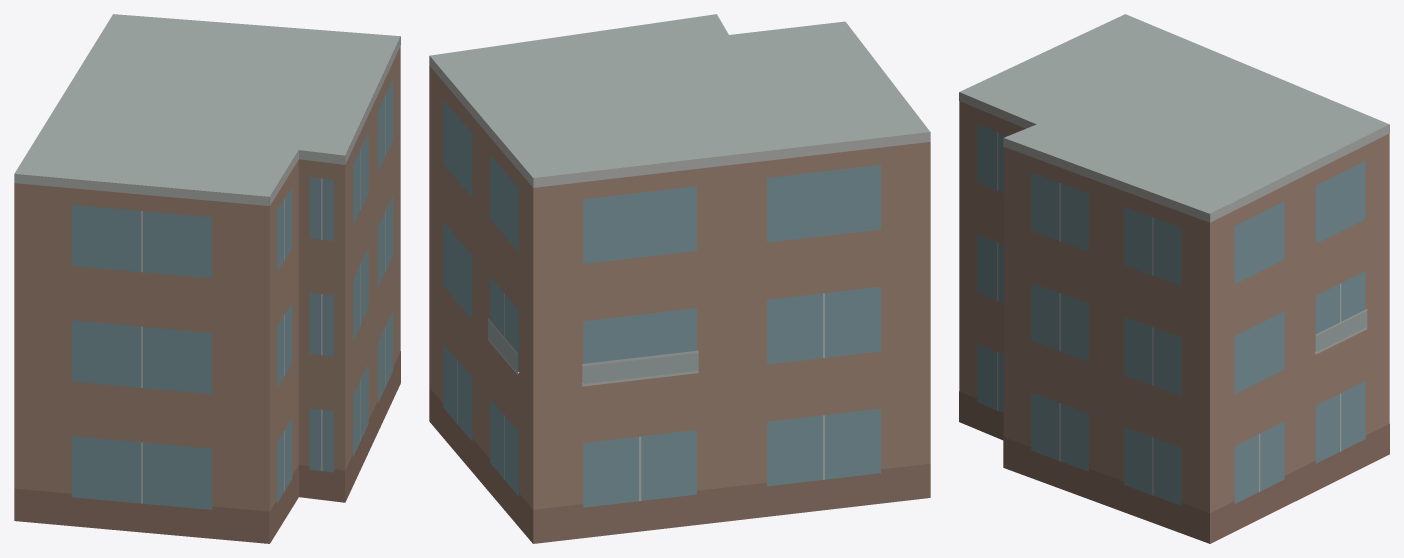
Rendered from survey-upis-32653118.glb.
The picture shows the model from 3 angles, left to right: view 1: azimuth 30°, elevation 25°; view 2: azimuth 150°, elevation 25°; view 3: azimuth 270°, elevation 25°; orthographic projection. The views are drawn at different scales.
Visible parts, largest first — view 1: survey-upis-32653118.tmp; view 2: survey-upis-32653118.tmp; view 3: survey-upis-32653118.tmp.
Boxes of the visible parts, left/top/right/bottom form: survey-upis-32653118.tmp: left=14, top=14, right=400, bottom=543; survey-upis-32653118.tmp: left=429, top=14, right=930, bottom=543; survey-upis-32653118.tmp: left=959, top=14, right=1389, bottom=543.
Size of the model in its own units: 11.9 by 9.15 by 10.83.
